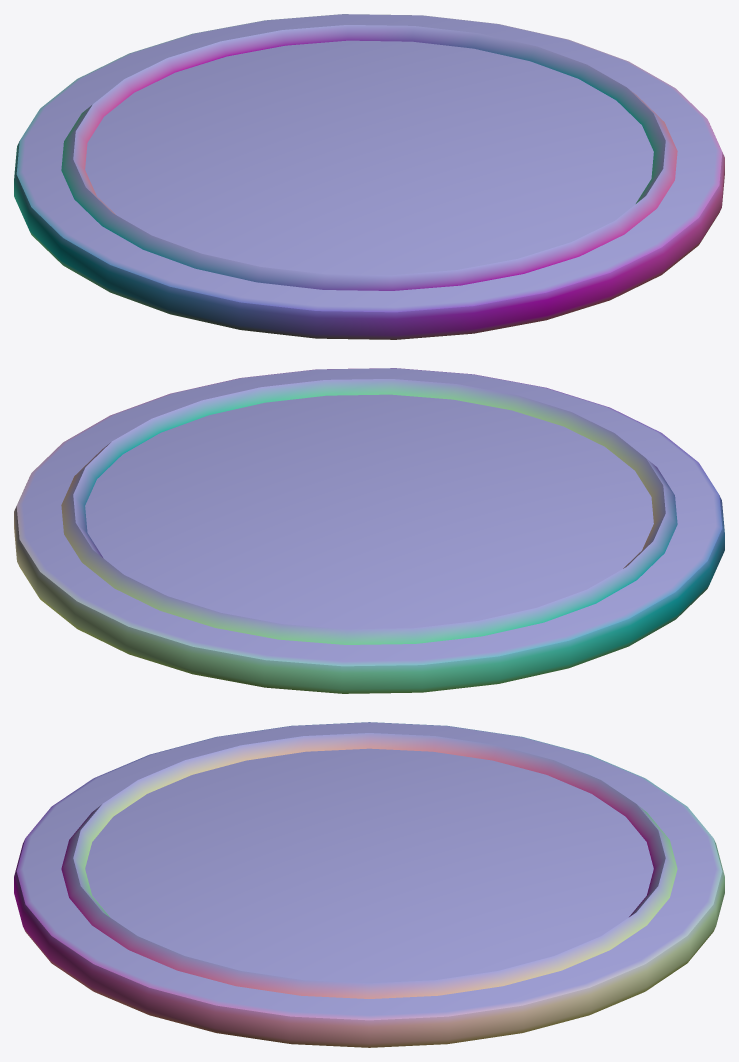
Rendered from env_deco_coin.glb.
The picture shows the model from 3 angles, top to bottom: view 1: azimuth 30°, elevation 25°; view 2: azimuth 150°, elevation 25°; view 3: azimuth 270°, elevation 25°; orthographic projection.
Parts seen in each view (by area): view 1: env_deco_coin_mesh; view 2: env_deco_coin_mesh; view 3: env_deco_coin_mesh.
Part boxes in pixels (box(x1,y1,x2,y2)): env_deco_coin_mesh: box(14, 14, 724, 339); env_deco_coin_mesh: box(14, 368, 724, 693); env_deco_coin_mesh: box(14, 722, 724, 1047).
Size of the model in its own units: 0.48 by 0.032 by 0.48.
